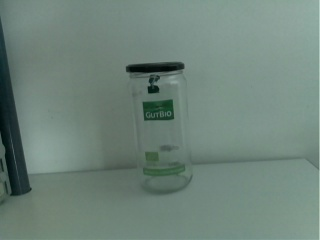pote cristal: (126, 61, 193, 195)
